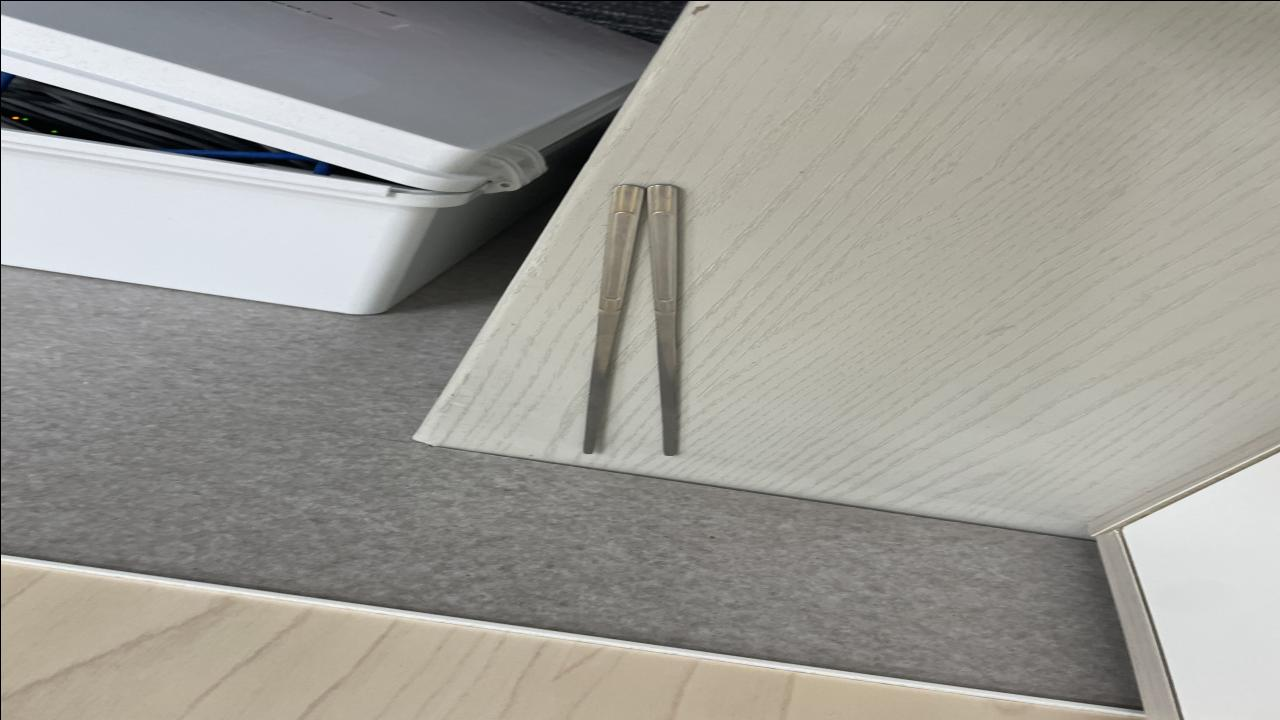chopstick: (576, 184, 682, 456)
